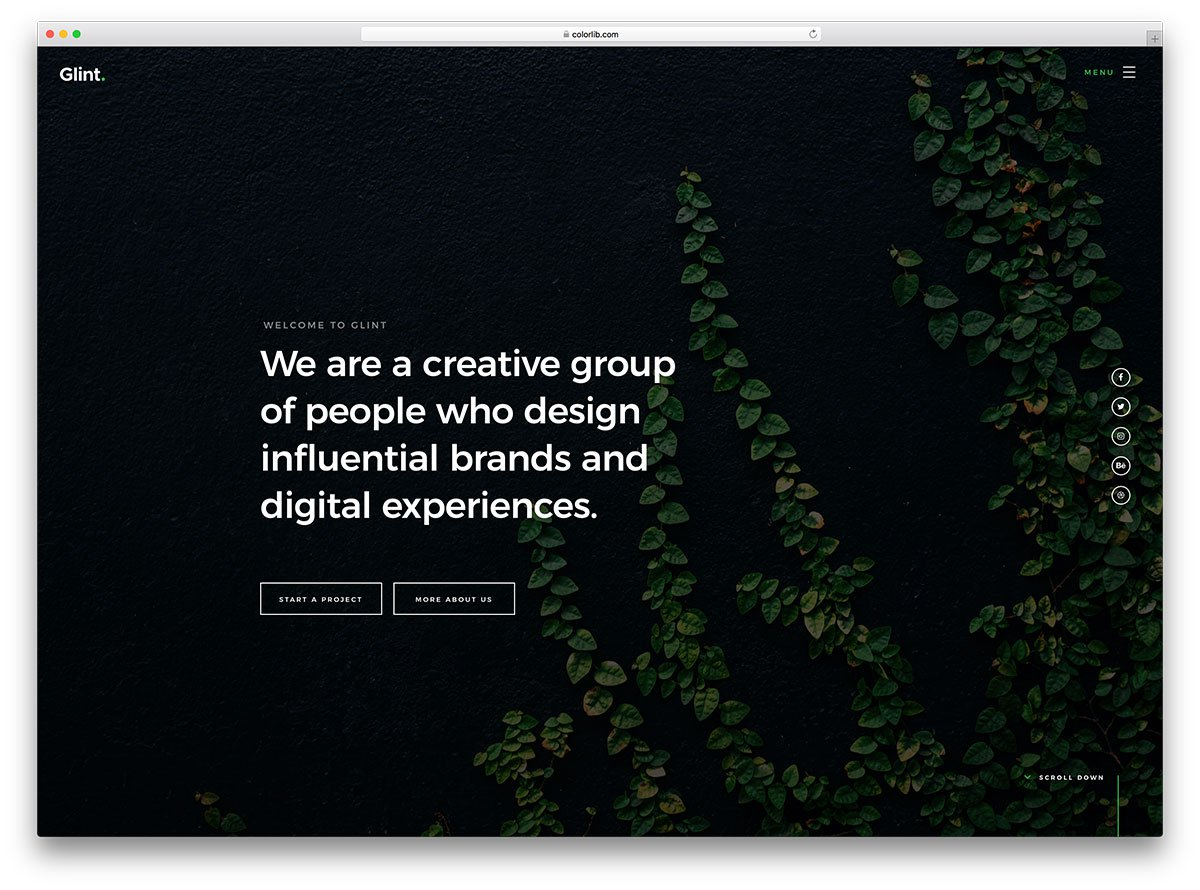button: (386, 567, 525, 628), (246, 575, 391, 627)
